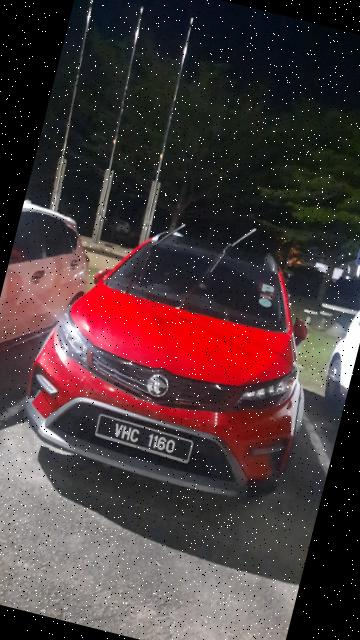License_Plate: (92, 410, 199, 468)
car: (9, 204, 343, 515), (1, 191, 111, 390)
